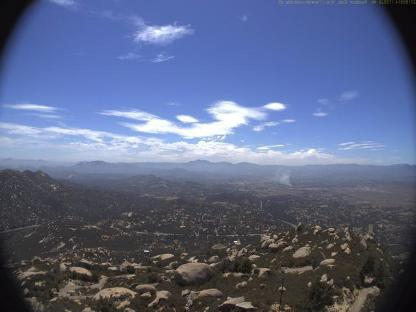smoke: (272, 168, 296, 188)
